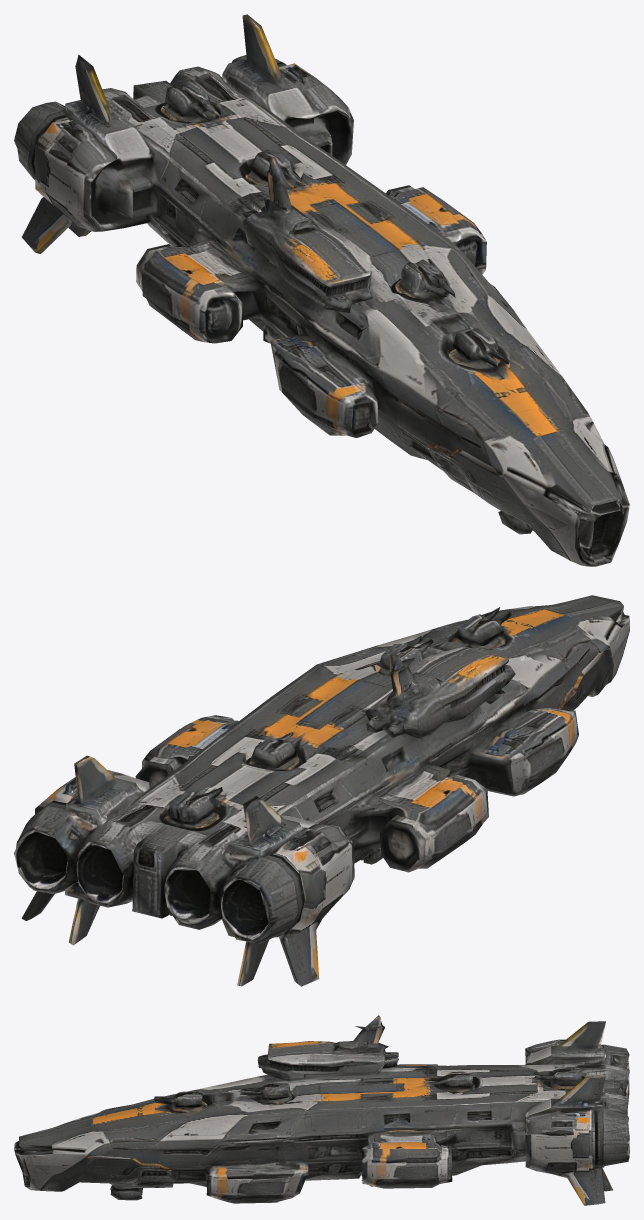
File: frigate-high.glb
3 views of the same model, one above another, from view 1: azimuth 30°, elevation 25°; view 2: azimuth 150°, elevation 25°; view 3: azimuth 270°, elevation 25° (orthographic). The views are drawn at different scales.
Visible parts, largest first — view 1: tripo_node_85168d36-76e7-4371-a1bd-e14405367bdc; view 2: tripo_node_85168d36-76e7-4371-a1bd-e14405367bdc; view 3: tripo_node_85168d36-76e7-4371-a1bd-e14405367bdc.
Boxes of the visible parts, x1=… form: tripo_node_85168d36-76e7-4371-a1bd-e14405367bdc: x1=14, y1=14, x2=629, y2=566; tripo_node_85168d36-76e7-4371-a1bd-e14405367bdc: x1=14, y1=595, x2=629, y2=986; tripo_node_85168d36-76e7-4371-a1bd-e14405367bdc: x1=14, y1=1015, x2=629, y2=1205.
Bounding box in the file's own units: 0.7043 × 0.5497 × 1.91.
Materials: 1 (1 with a texture image).
